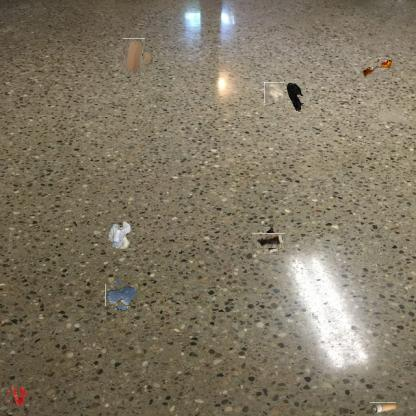dirty: (120, 42, 149, 72), (106, 218, 132, 250), (360, 57, 392, 79), (284, 80, 306, 112), (261, 230, 282, 252), (264, 82, 285, 103), (370, 402, 396, 415)
liquid: (108, 282, 135, 309), (7, 386, 27, 406)
